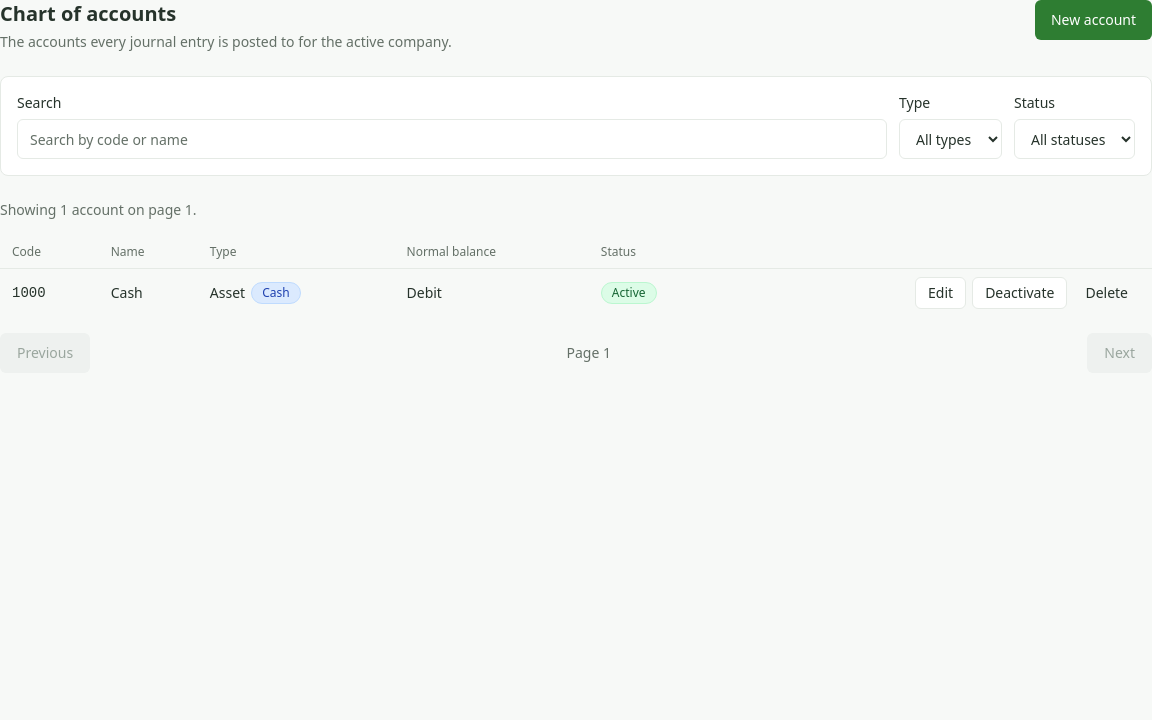
AccountsView › opens the create dialog from the header action
This screenshot has width=1152, height=720.
Click the button "New account". click: (1094, 20)
box: x1=1035 y1=0 x2=1151 y2=40
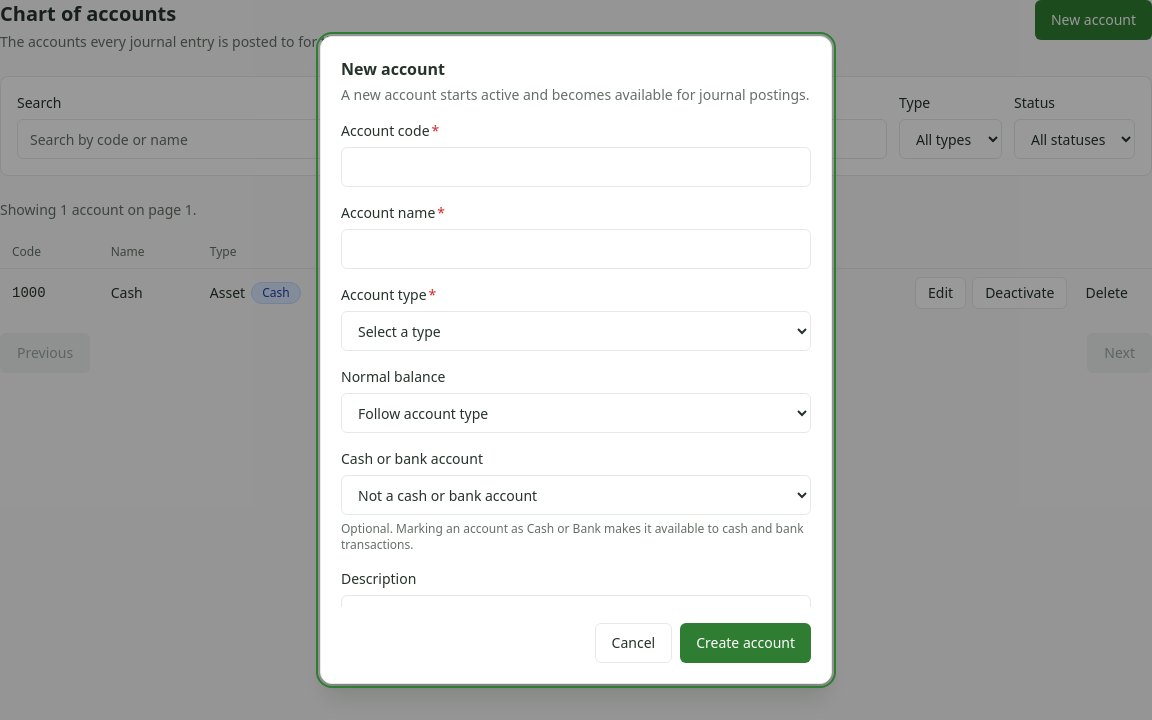
Now the dialog "New account" is shown, box x1=320 y1=36 x2=832 y2=684
